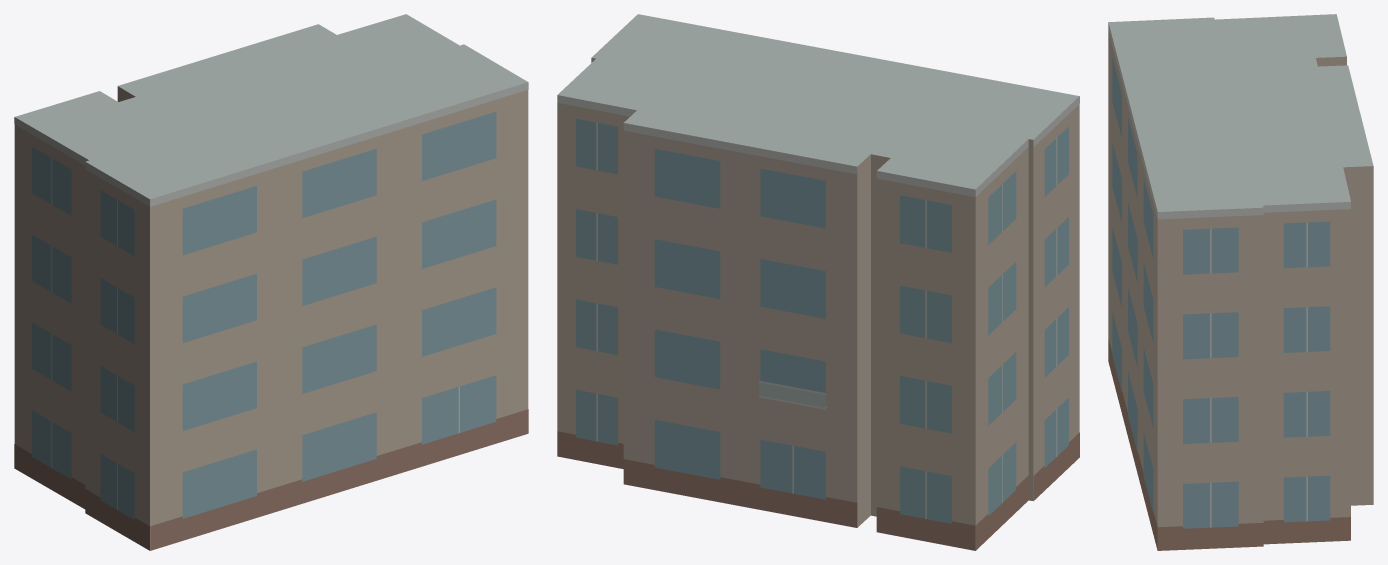
The model's file is survey-upis-32668436.glb.
The picture shows the model from 3 angles, left to right: view 1: azimuth 30°, elevation 25°; view 2: azimuth 150°, elevation 25°; view 3: azimuth 270°, elevation 25°; orthographic projection. The views are drawn at different scales.
Parts seen in each view (by area): view 1: survey-upis-32668436.tmp; view 2: survey-upis-32668436.tmp; view 3: survey-upis-32668436.tmp.
Boxes of the visible parts, x1,y1,x2,y2 form: survey-upis-32668436.tmp: (14, 14, 528, 550); survey-upis-32668436.tmp: (557, 14, 1079, 550); survey-upis-32668436.tmp: (1108, 14, 1373, 550).
Size of the model in its own units: 14.31 by 11.4 by 8.1.
